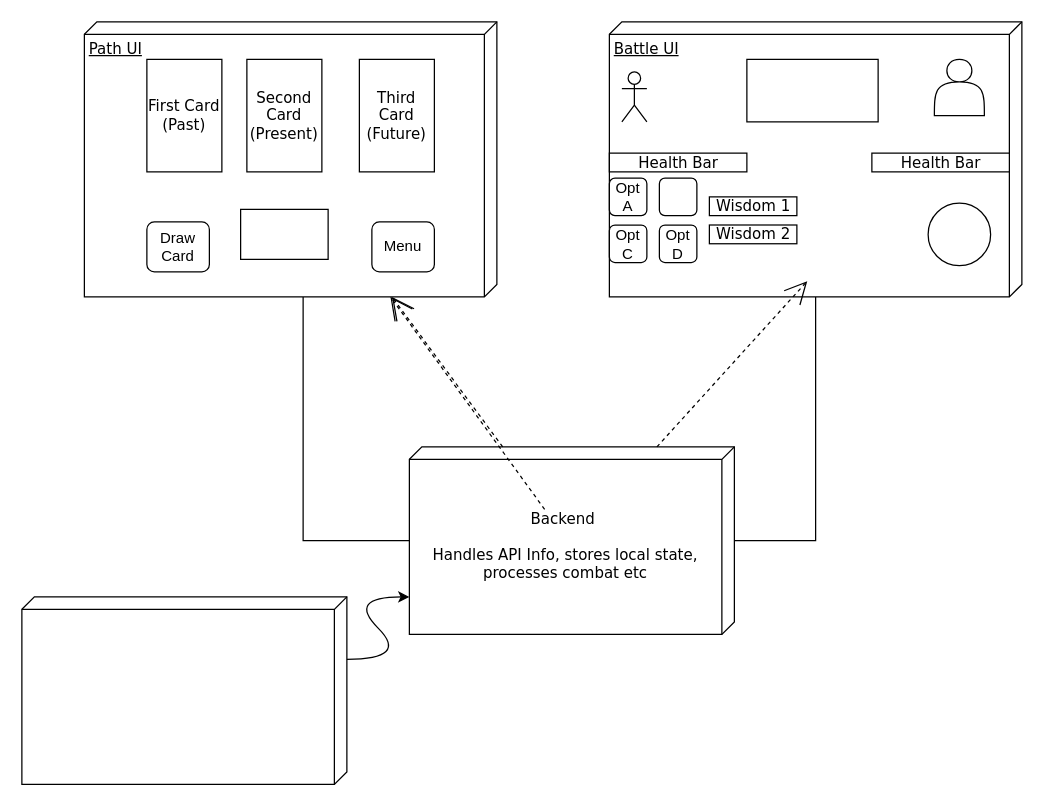
Some shapes in this 1044 by 806 pixel diagram are drawn without their labels. The centre of each missing label's shape, as x and y in pixels:
Battle Messages: [812,90]
Boss: [958,87]
Boss Info?: [959,234]
Opt B: [677,196]
Player: [634,96]
Tarot API Supplies Card Info (Likely custom built): [184,690]
Text Box: [283,233]
